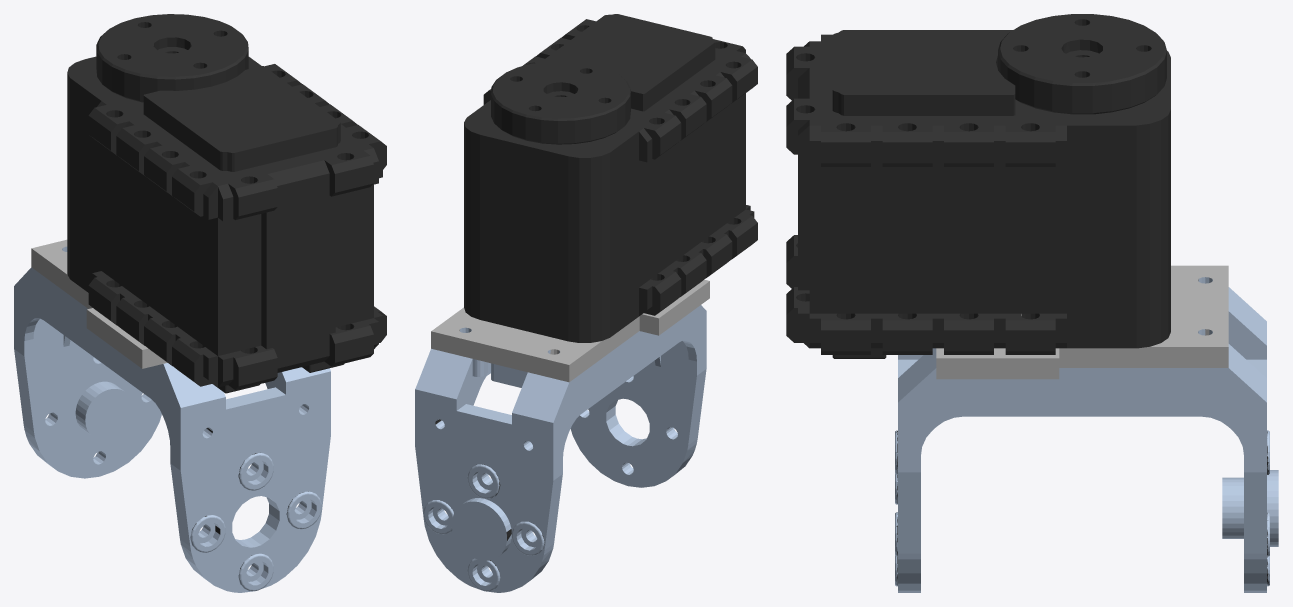
The model's file is wrist.dae.
3 renders of one model, left to right at view 1: azimuth 30°, elevation 25°; view 2: azimuth 150°, elevation 25°; view 3: azimuth 270°, elevation 25°, orthographic. The views are drawn at different scales.
Parts seen in each view (by area): view 1: wrist; view 2: wrist; view 3: wrist.
Boxes of the visible parts, x1,y1,x2,y2 form: wrist: (14,14,386,592); wrist: (415,14,757,592); wrist: (786,14,1278,592).
Size of the model in its own units: 0.032 by 0.064 by 0.077.
